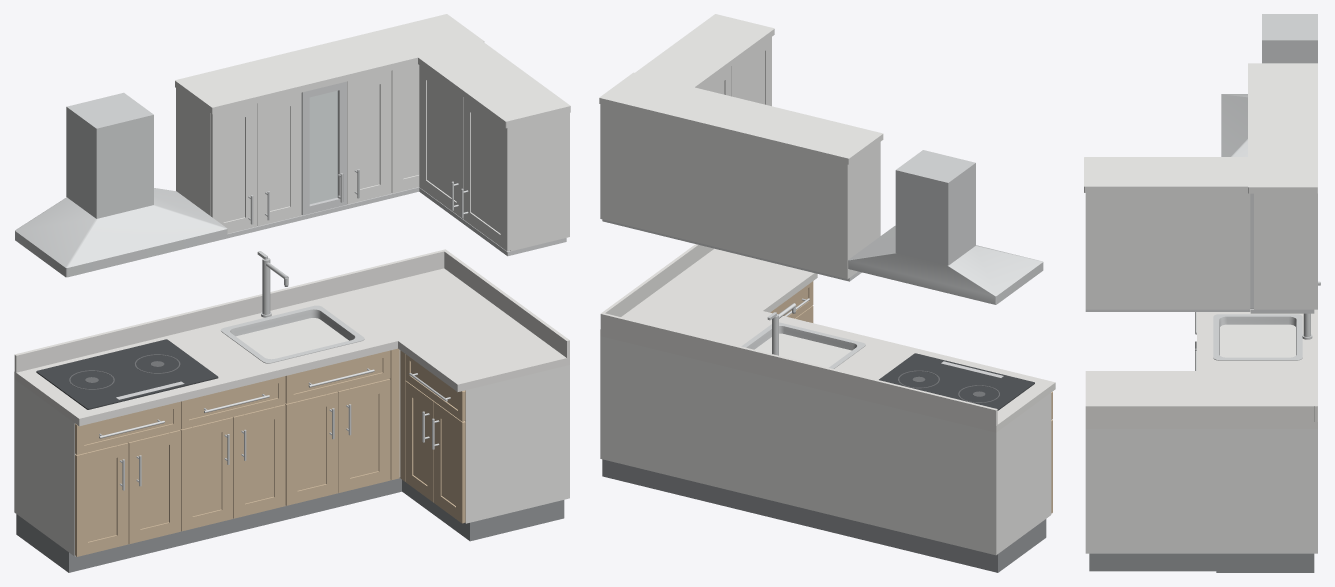
3 views of the same model, side by side, from view 1: azimuth 30°, elevation 25°; view 2: azimuth 150°, elevation 25°; view 3: azimuth 270°, elevation 25° (orthographic). The views are drawn at different scales.
Parts seen in each view (by area): view 1: Tủ bếp chữ L Dài cạnh chính=2400; Dài cạnh phụ=1200; Sâu tủ ; view 2: Tủ bếp chữ L Dài cạnh chính=2400; Dài cạnh phụ=1200; Sâu tủ ; view 3: Tủ bếp chữ L Dài cạnh chính=2400; Dài cạnh phụ=1200; Sâu tủ .
Boxes of the visible parts, <box> form: Tủ bếp chữ L Dài cạnh chính=2400; Dài cạnh phụ=1200; Sâu tủ : <box>14,14,570,572</box>; Tủ bếp chữ L Dài cạnh chính=2400; Dài cạnh phụ=1200; Sâu tủ : <box>599,14,1055,572</box>; Tủ bếp chữ L Dài cạnh chính=2400; Dài cạnh phụ=1200; Sâu tủ : <box>1084,14,1320,572</box>.
Size of the model in its own units: 2.41 by 2.2 by 1.22.
